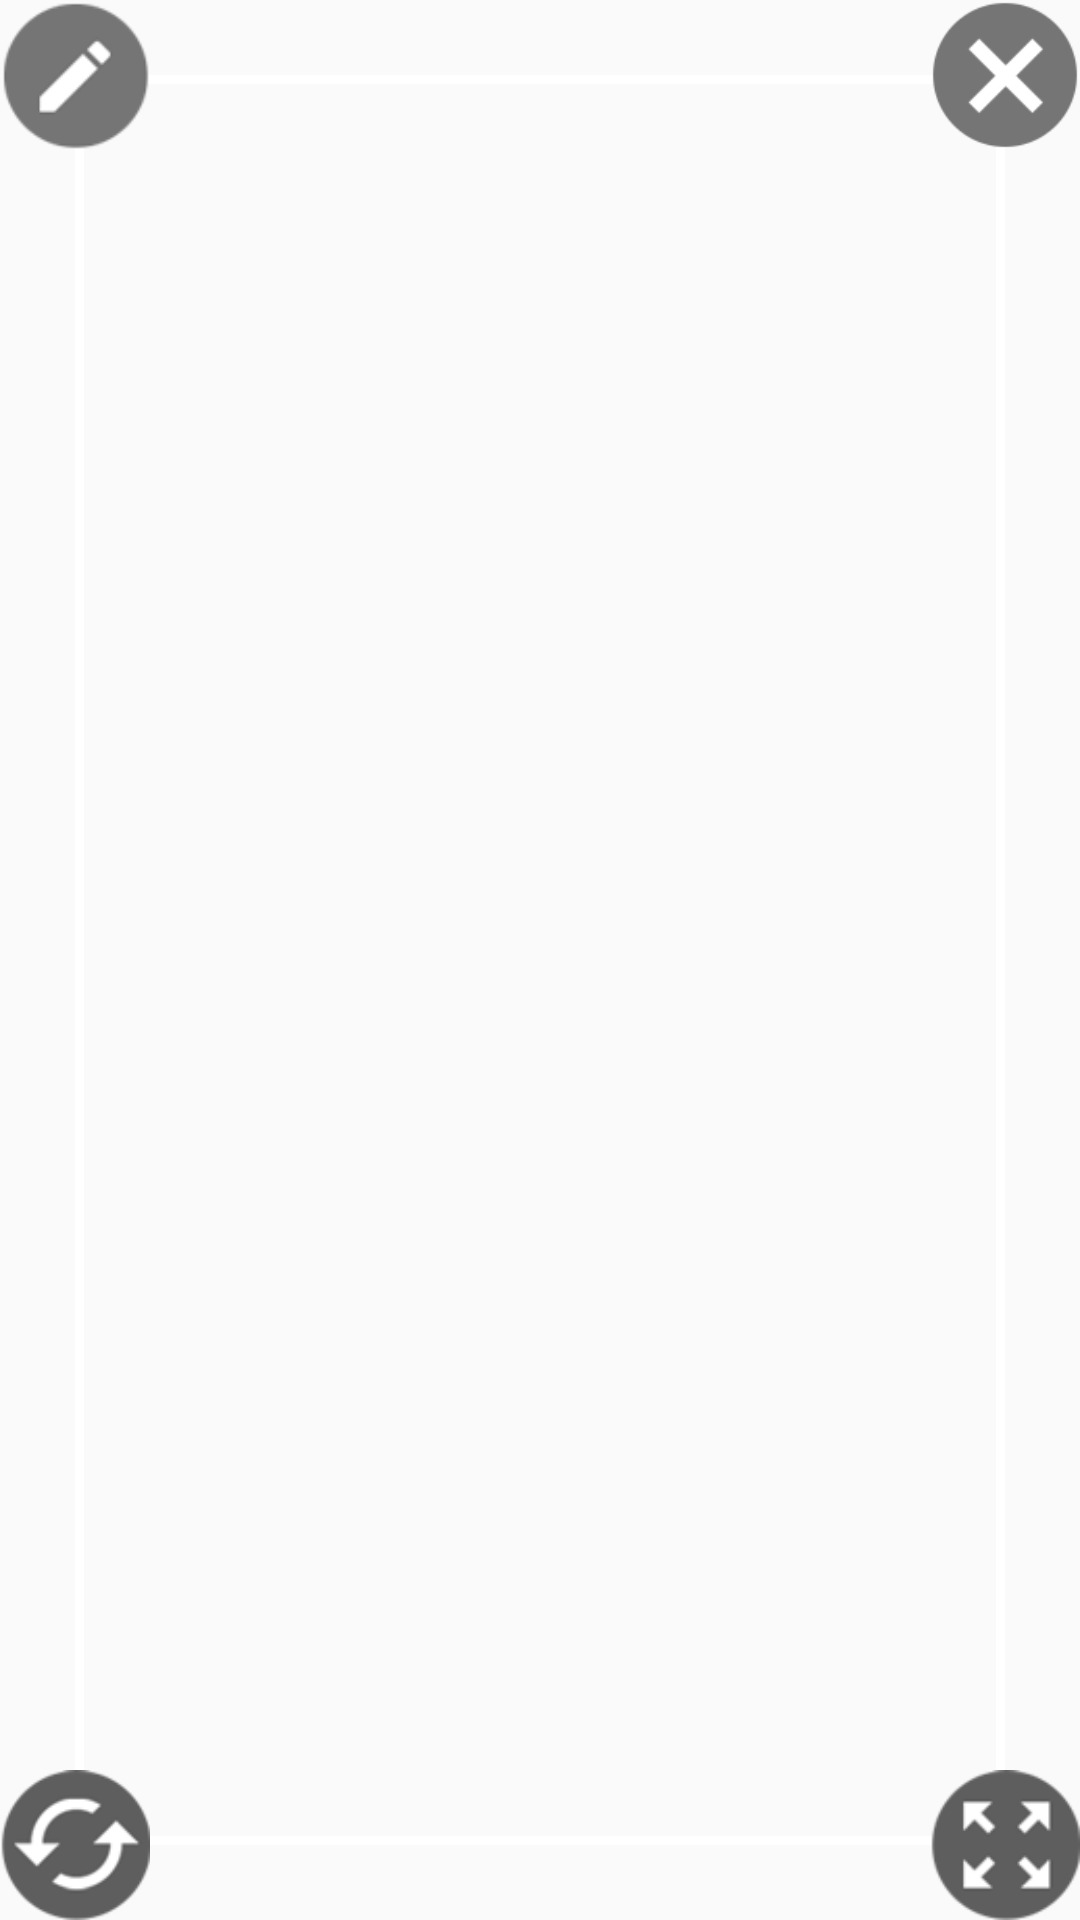

Where icons sit on this 1080 × 1920 app screen, as (x1, y1, x2, y2):
crop cancel: (933, 3, 1077, 147)
crop edit: (3, 3, 148, 148)
crop rotate: (1, 1770, 150, 1920)
crop scale: (931, 1770, 1080, 1920)
